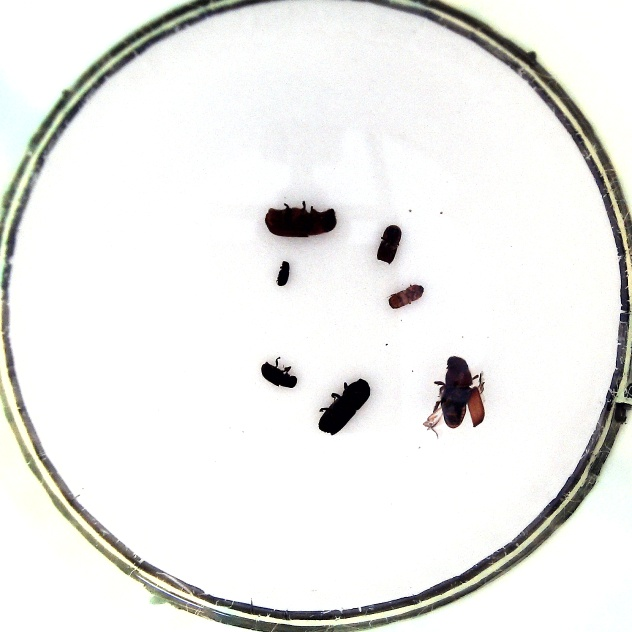acuminatus: (386, 282, 428, 310)
armandi: (258, 353, 300, 391)
boerner: (315, 377, 373, 437)
coleoptera: (276, 258, 291, 290)
leconte: (421, 355, 487, 436), (263, 197, 339, 242)
linnaeus: (375, 223, 404, 267)
